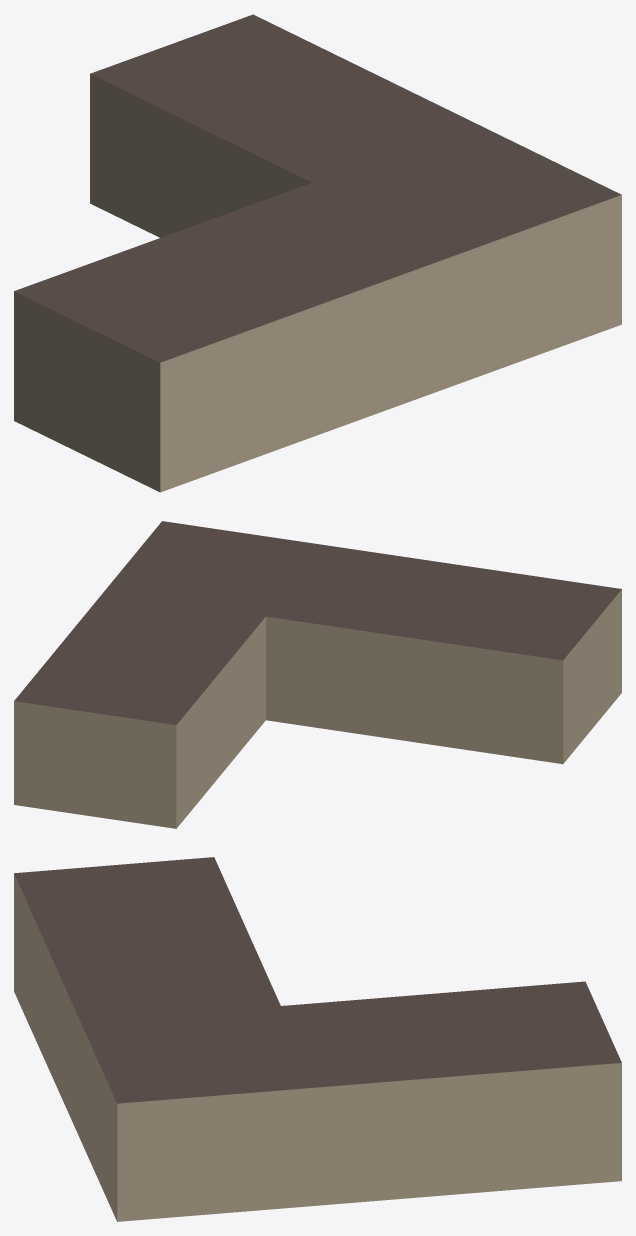
The picture shows the model from 3 angles, top to bottom: view 1: azimuth 30°, elevation 25°; view 2: azimuth 150°, elevation 25°; view 3: azimuth 270°, elevation 25°; orthographic projection. The views are drawn at different scales.
Parts seen in each view (by area): view 1: HP-w1365659898; view 2: HP-w1365659898; view 3: HP-w1365659898.
Boxes of the visible parts, x1,y1,x2,y2 form: HP-w1365659898: (14,14,621,492); HP-w1365659898: (14,521,621,828); HP-w1365659898: (14,857,621,1221).
Bounding box in the file's own units: 40.26 × 9 × 41.94.
